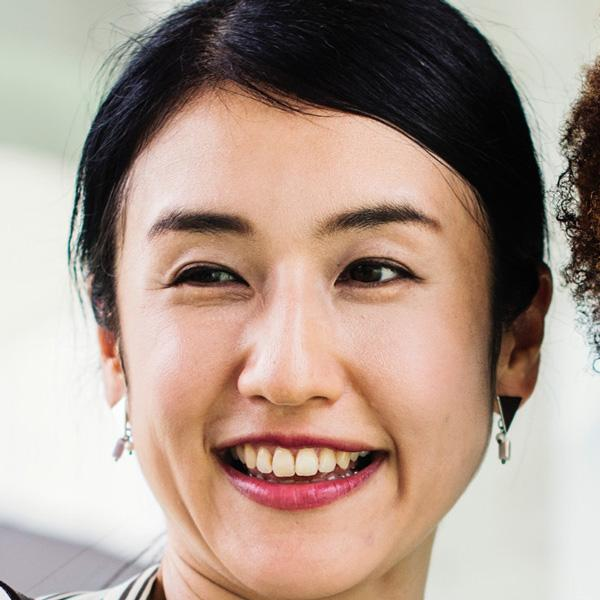Eyes: (154, 239, 258, 308), (324, 242, 429, 303)
